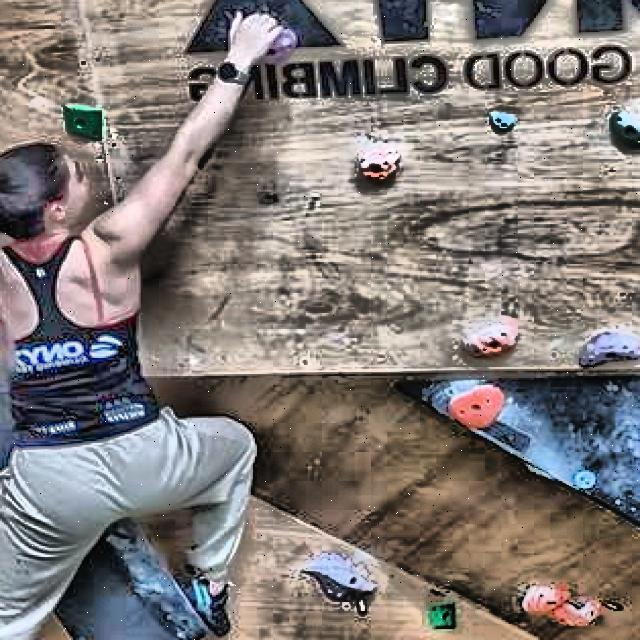Hold: (302, 553, 375, 602), (448, 383, 508, 430), (463, 316, 520, 360), (579, 331, 640, 369), (357, 146, 399, 184), (63, 105, 104, 143), (522, 584, 571, 615), (554, 598, 603, 627), (609, 110, 640, 148), (426, 602, 457, 631), (491, 108, 518, 134)
Volume: (0, 327, 211, 640), (393, 377, 640, 529)
start_tag: (356, 598, 367, 613), (604, 602, 618, 611)
